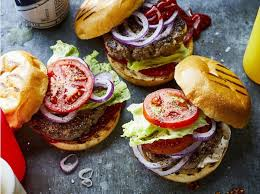hamburger: (129, 83, 238, 180), (28, 52, 125, 153), (98, 4, 198, 84)
